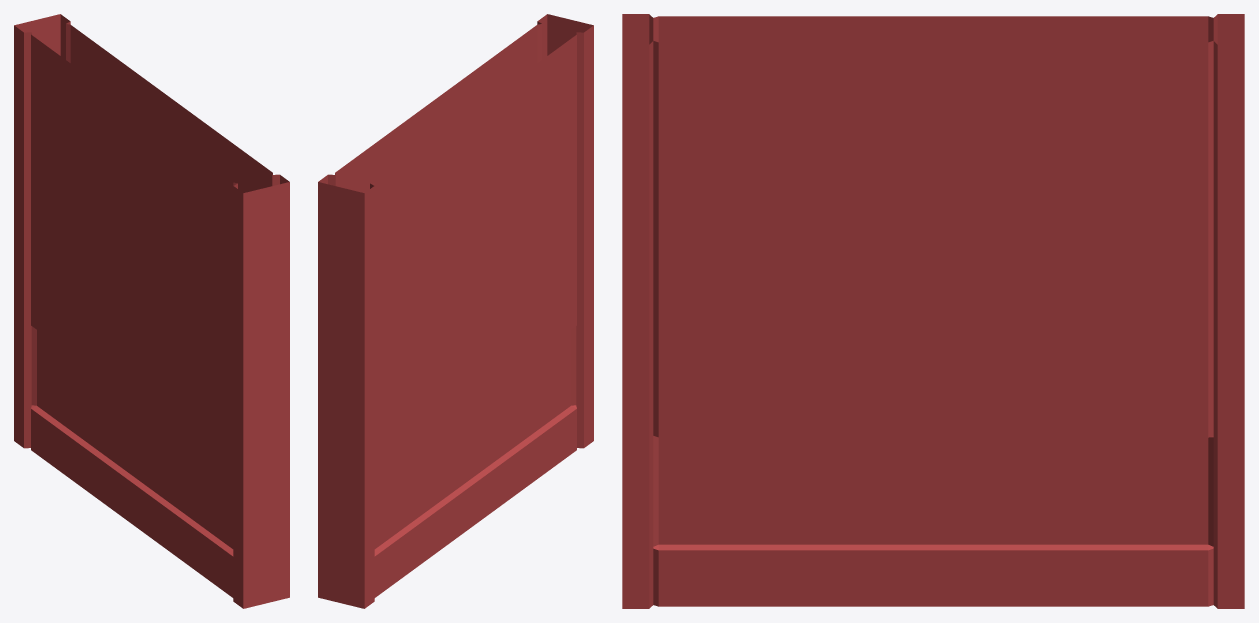
Rendered from SM_VALVE_WALL_4M_02.fbx.
The picture shows the model from 3 angles, left to right: view 1: azimuth 30°, elevation 25°; view 2: azimuth 150°, elevation 25°; view 3: azimuth 270°, elevation 25°; orthographic projection. The views are drawn at different scales.
Visible parts, largest first — view 1: SM_VALVE_WALL_4M_02; view 2: SM_VALVE_WALL_4M_02; view 3: SM_VALVE_WALL_4M_02.
Part boxes in pixels (box(x1,y1,x2,y2)): SM_VALVE_WALL_4M_02: box(14, 14, 289, 608); SM_VALVE_WALL_4M_02: box(318, 14, 593, 608); SM_VALVE_WALL_4M_02: box(622, 14, 1244, 608).
Size of the model in its own units: 0.4675 by 4 by 4.
